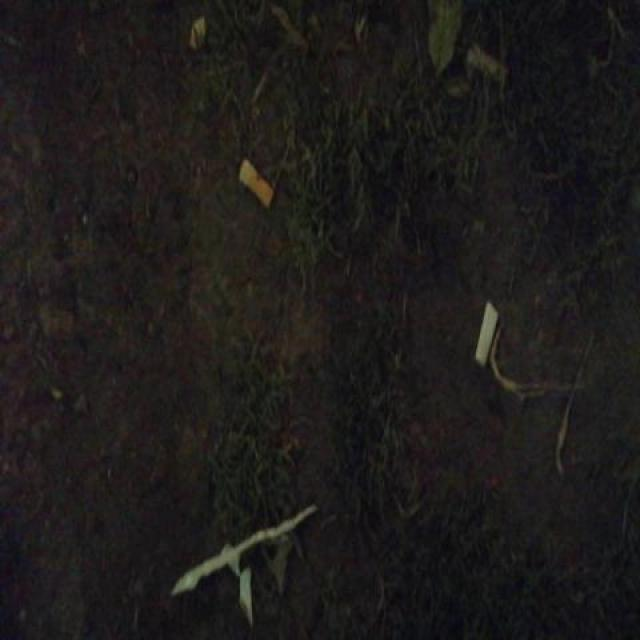non-organic waste: (238, 154, 278, 215), (469, 298, 502, 366)
